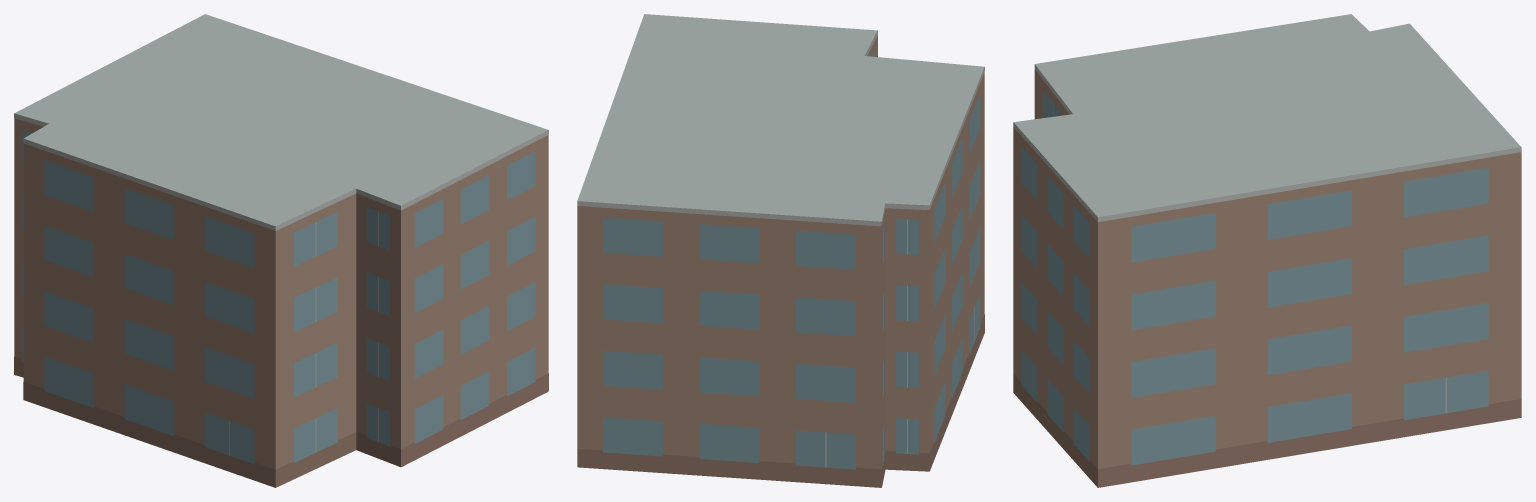
File: survey-upis-32863107.glb
3 renders of one model, left to right at view 1: azimuth 30°, elevation 25°; view 2: azimuth 150°, elevation 25°; view 3: azimuth 270°, elevation 25°, orthographic. The views are drawn at different scales.
Visible parts, largest first — view 1: survey-upis-32863107.tmp; view 2: survey-upis-32863107.tmp; view 3: survey-upis-32863107.tmp.
Boxes of the visible parts, x1=… form: survey-upis-32863107.tmp: x1=14, y1=14, x2=548, y2=487; survey-upis-32863107.tmp: x1=577, y1=14, x2=984, y2=487; survey-upis-32863107.tmp: x1=1013, y1=14, x2=1521, y2=487.
Size of the model in its own units: 21.86 by 13.55 by 23.08.
